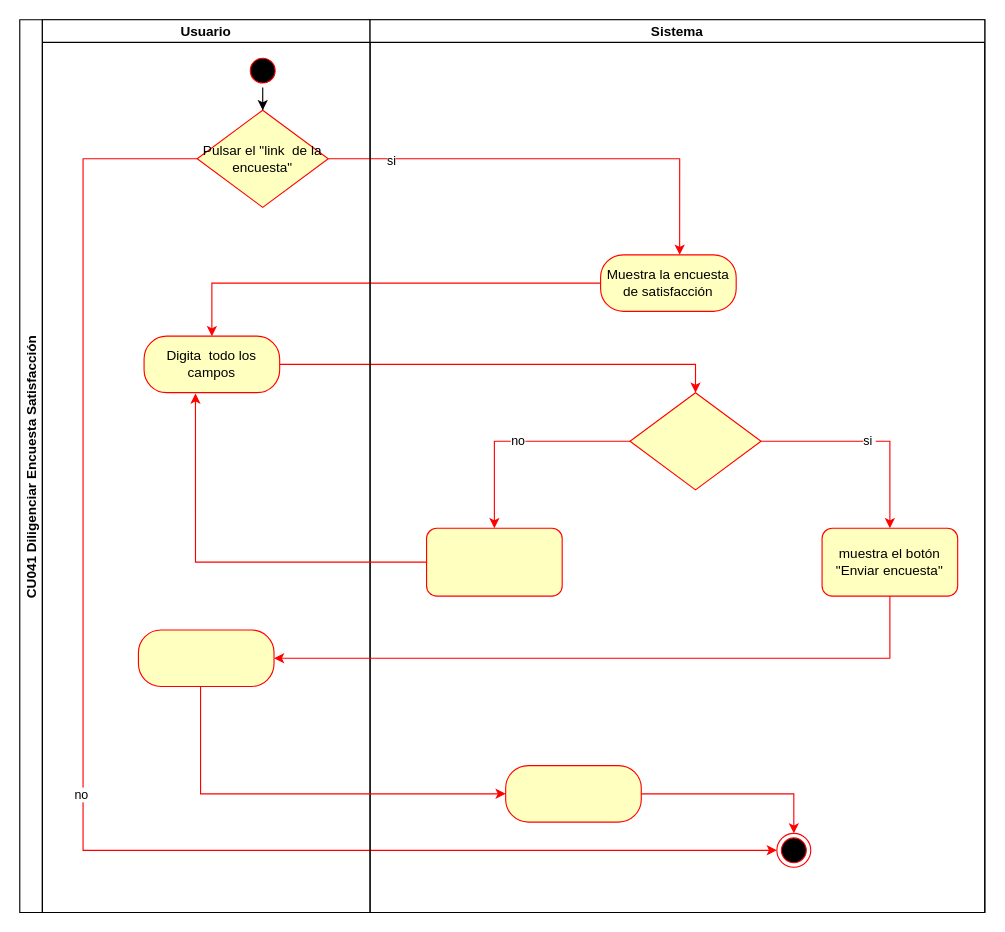
This 1005x932 diagram has some shape labels left out. The shapes that lost their labels are listed below. From the top down, each one's centre as x and y in pixels, then its label:
pixel 695 441: Valida los campos
pixel 493 561: Mensaje de mensaje no valido.
pixel 205 657: Pulsa el botón "Enviar encuesta "
pixel 573 793: Mensaje Enviado
